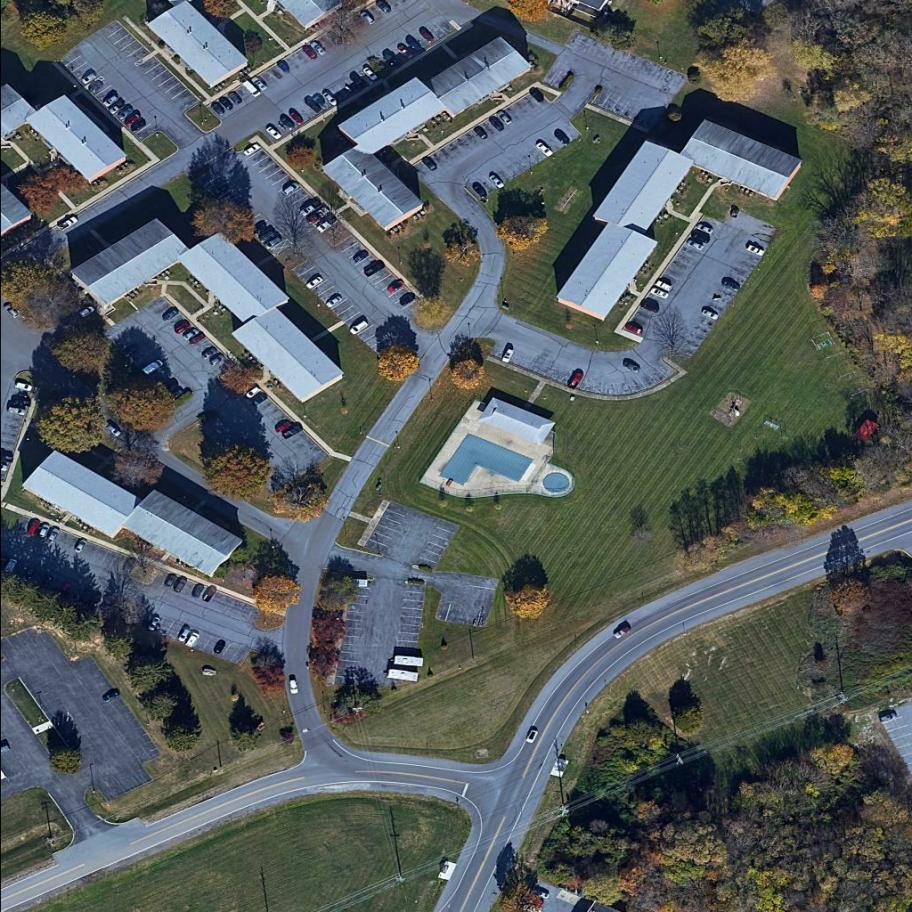small-vehicle: (305, 204, 331, 227), (240, 77, 263, 100), (141, 356, 165, 378), (362, 258, 387, 279), (315, 213, 338, 235), (348, 70, 369, 93), (302, 94, 323, 116), (57, 213, 80, 233), (297, 200, 321, 219), (552, 126, 572, 148), (405, 33, 425, 55), (348, 318, 371, 337), (281, 422, 304, 441), (107, 96, 128, 116), (256, 228, 279, 246), (201, 582, 219, 604), (263, 233, 283, 252), (288, 107, 307, 127), (568, 368, 585, 390), (470, 181, 489, 200), (124, 110, 143, 129), (396, 42, 415, 61), (242, 141, 262, 159), (279, 112, 297, 132), (398, 290, 418, 308), (183, 631, 201, 651), (166, 386, 186, 404), (536, 141, 555, 159), (488, 114, 506, 133), (383, 51, 401, 70), (613, 624, 632, 642), (496, 108, 513, 128), (211, 638, 228, 658), (639, 299, 660, 315), (362, 65, 380, 83), (281, 181, 300, 198), (251, 221, 270, 238), (419, 27, 436, 46), (103, 421, 122, 438), (3, 301, 20, 320), (250, 392, 269, 409), (78, 71, 98, 87), (46, 525, 62, 545), (101, 689, 121, 705), (472, 124, 489, 142), (353, 248, 371, 265), (265, 124, 283, 141), (302, 43, 319, 61), (130, 117, 148, 134), (86, 78, 104, 95), (146, 615, 163, 633), (176, 628, 193, 646), (116, 106, 135, 122), (305, 275, 324, 291), (324, 294, 343, 310), (200, 346, 219, 362), (274, 419, 293, 435), (4, 558, 19, 578), (722, 279, 743, 293), (649, 286, 670, 300), (488, 173, 505, 190), (421, 155, 438, 172), (322, 90, 339, 107), (310, 40, 327, 57), (359, 10, 376, 27), (326, 29, 342, 47), (162, 306, 180, 322), (387, 279, 405, 295), (182, 327, 200, 343), (188, 331, 206, 347), (173, 575, 188, 594), (501, 347, 516, 366), (27, 517, 41, 537), (622, 360, 642, 374), (745, 244, 766, 257), (623, 322, 644, 335), (311, 93, 327, 110), (251, 75, 267, 92), (219, 95, 235, 112), (210, 101, 227, 117), (78, 304, 95, 320), (244, 385, 262, 400), (691, 230, 710, 244), (654, 278, 673, 292), (686, 238, 705, 252), (175, 319, 191, 335), (209, 352, 225, 368), (525, 728, 540, 745), (12, 395, 33, 407), (74, 536, 88, 554), (696, 221, 714, 235), (277, 59, 292, 75), (102, 94, 119, 108), (164, 572, 178, 589), (6, 406, 27, 417), (228, 91, 243, 106), (532, 88, 546, 104), (702, 309, 720, 321), (192, 582, 205, 598), (124, 557, 136, 574), (288, 679, 300, 696), (881, 711, 899, 722), (352, 12, 364, 28), (14, 383, 34, 392), (532, 889, 550, 899), (38, 523, 49, 539)
